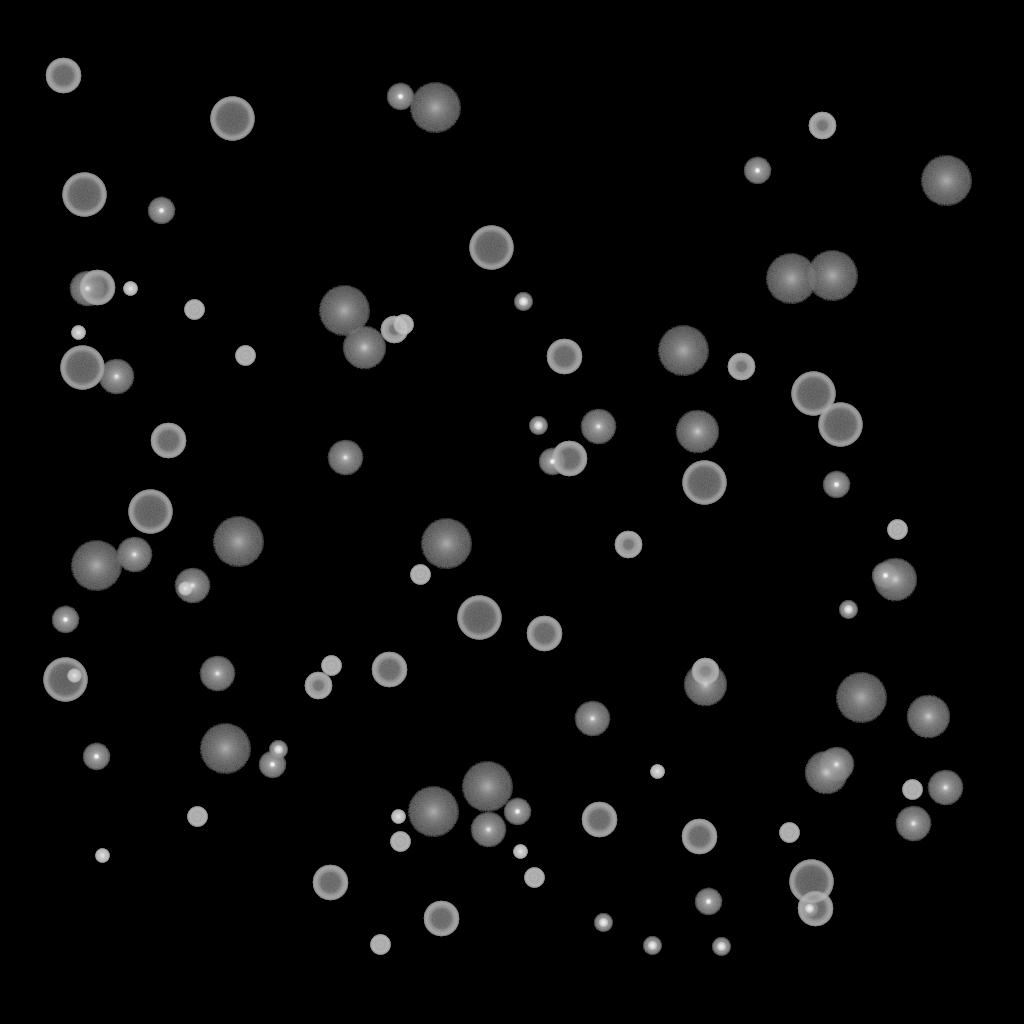depth:-10: (503, 798, 531, 826), (694, 888, 722, 916), (82, 743, 110, 771), (871, 562, 899, 590), (147, 197, 175, 225), (258, 751, 286, 779), (822, 471, 850, 499), (538, 448, 566, 476), (743, 157, 771, 185), (386, 83, 414, 111), (51, 606, 79, 634)
depth:-20: (712, 938, 730, 956), (514, 293, 532, 311), (800, 900, 818, 918), (594, 914, 612, 932), (529, 417, 547, 435), (643, 937, 661, 955), (269, 741, 287, 759), (839, 601, 857, 619)
depth:-30: (71, 326, 85, 340), (67, 669, 81, 683), (513, 845, 527, 859), (178, 582, 192, 596), (95, 849, 109, 863), (123, 282, 137, 296), (650, 765, 664, 779), (391, 810, 405, 824)
depth:-40: (524, 868, 544, 888), (370, 935, 390, 955), (235, 346, 255, 366), (887, 520, 907, 540), (184, 300, 204, 320), (393, 315, 413, 335), (321, 656, 341, 676), (187, 807, 207, 827), (779, 823, 799, 843), (410, 565, 430, 585), (902, 780, 922, 800), (390, 832, 410, 852)
depth:-50: (691, 658, 719, 686), (380, 316, 408, 344), (727, 353, 755, 381), (808, 112, 836, 140), (614, 531, 642, 559), (304, 672, 332, 700)
depth:-60: (797, 891, 833, 927), (79, 270, 115, 306), (681, 819, 717, 855), (526, 616, 562, 652), (371, 652, 407, 688), (45, 58, 81, 94), (551, 441, 587, 477), (581, 802, 617, 838), (312, 865, 348, 901), (423, 901, 459, 937), (546, 339, 582, 375), (150, 423, 186, 459)
depth:-70: (457, 596, 501, 640), (60, 346, 104, 390), (789, 860, 833, 904), (682, 461, 726, 505), (818, 403, 862, 447), (791, 372, 835, 416), (62, 173, 106, 217), (469, 226, 513, 270), (210, 97, 254, 141), (128, 490, 172, 534), (43, 658, 87, 702)
depth:0: (98, 359, 134, 395), (895, 806, 931, 842), (574, 701, 610, 737), (818, 747, 854, 783), (580, 409, 616, 445), (927, 770, 963, 806), (199, 656, 235, 692), (174, 568, 210, 604), (69, 271, 105, 307), (116, 537, 152, 573), (470, 812, 506, 848), (327, 440, 363, 476)
depth:10: (342, 326, 386, 370), (683, 663, 727, 707), (873, 558, 917, 602), (906, 695, 950, 739), (675, 410, 719, 454), (804, 751, 848, 795)
depth:20: (199, 724, 251, 774), (318, 286, 370, 336), (765, 254, 817, 304), (409, 83, 461, 133), (461, 762, 513, 812), (420, 519, 472, 569), (806, 251, 858, 301), (70, 541, 122, 591), (212, 517, 264, 567), (920, 156, 972, 206), (657, 326, 709, 376), (407, 787, 459, 837), (835, 673, 887, 723)
